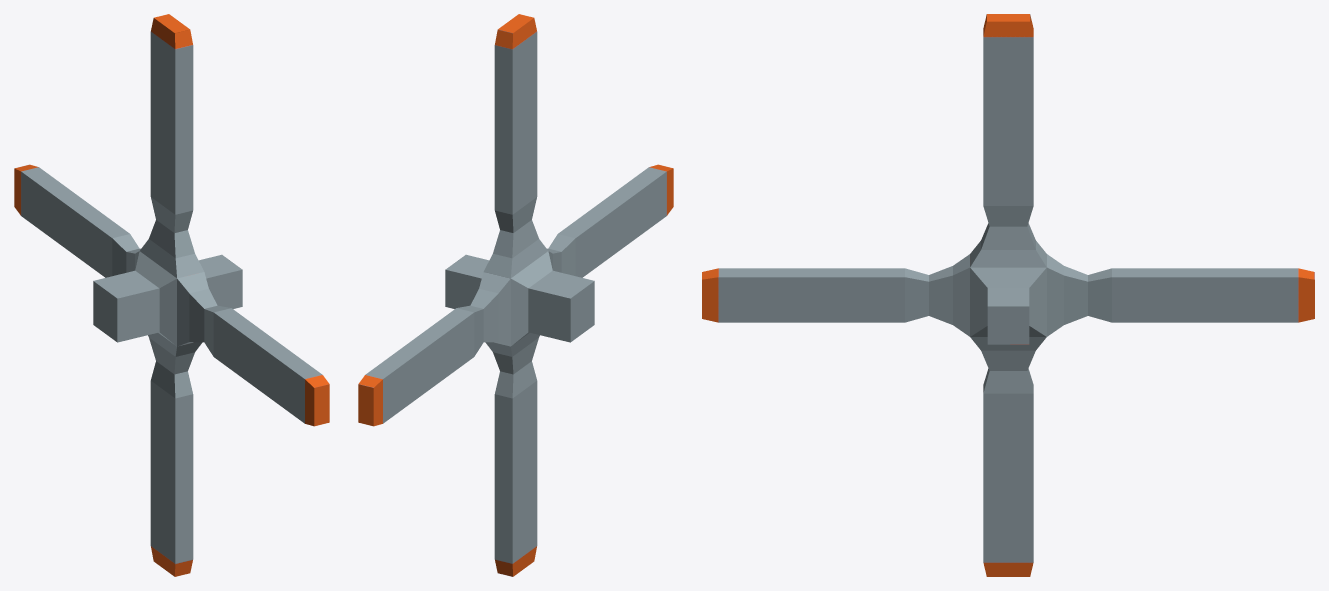
File: helicopteroCola.obj
3 views of the same model, side by side, from view 1: azimuth 30°, elevation 25°; view 2: azimuth 150°, elevation 25°; view 3: azimuth 270°, elevation 25° (orthographic). The views are drawn at different scales.
Parts seen in each view (by area): view 1: cuerpo.002; view 2: cuerpo.002; view 3: cuerpo.002.
Part boxes in pixels (x1=…): cuerpo.002: x1=14, y1=14, x2=329, y2=576; cuerpo.002: x1=358, y1=14, x2=673, y2=576; cuerpo.002: x1=702, y1=14, x2=1314, y2=576.
Bounding box in the file's own units: 0.0225 × 0.0923 × 0.0923.
1 material, 1 textured.
